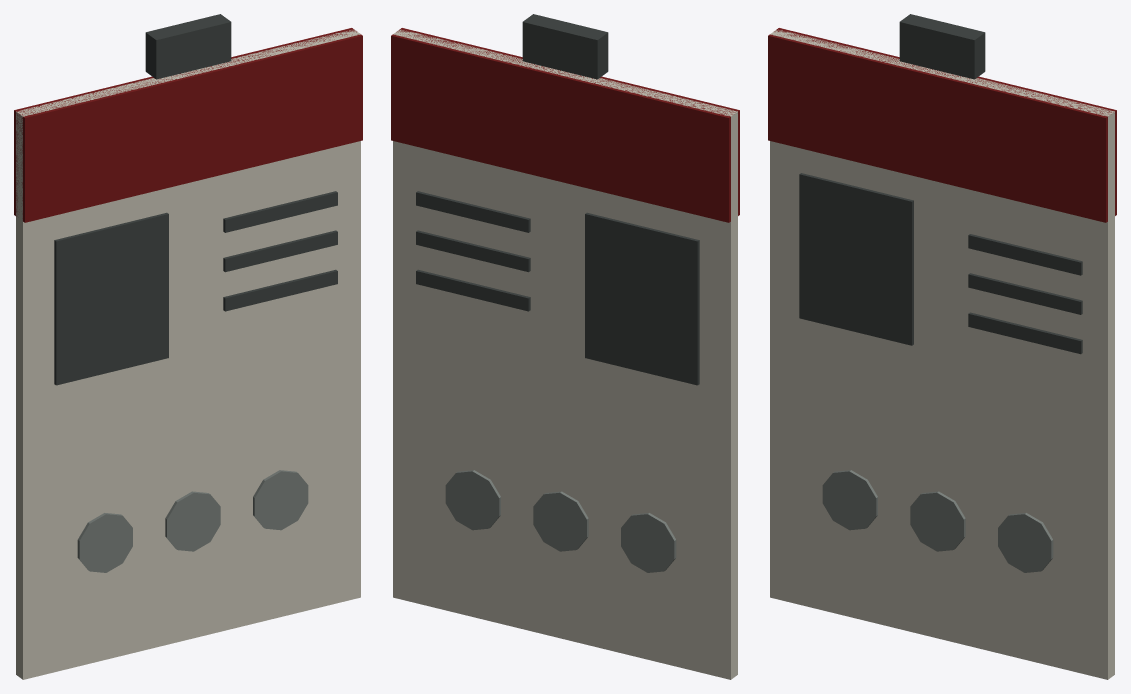
The model's file is the_nhan_vien.glb.
3 views of the same model, side by side, from view 1: azimuth 30°, elevation 25°; view 2: azimuth 150°, elevation 25°; view 3: azimuth 330°, elevation 25° (orthographic).
Parts seen in each view (by area): view 1: the_nhan_vien; view 2: the_nhan_vien; view 3: the_nhan_vien.
Boxes of the visible parts, x1,y1,x2,y2 form: the_nhan_vien: (14,14,362,679); the_nhan_vien: (391,14,739,679); the_nhan_vien: (768,14,1116,679).
Bounding box in the file's own units: 0.054 × 0.093 × 0.003.
